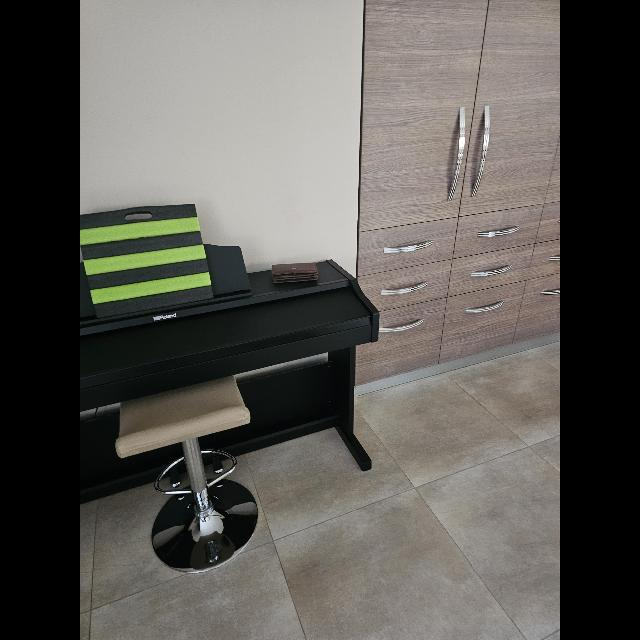Wallet: (272, 262, 320, 282)
